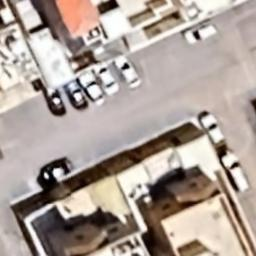SUV: (198, 107, 226, 145), (182, 22, 222, 46)
sedan: (34, 156, 75, 190), (75, 71, 107, 106), (91, 62, 122, 96), (113, 57, 143, 89), (62, 79, 90, 111), (40, 86, 68, 118)
van: (218, 149, 252, 194)
